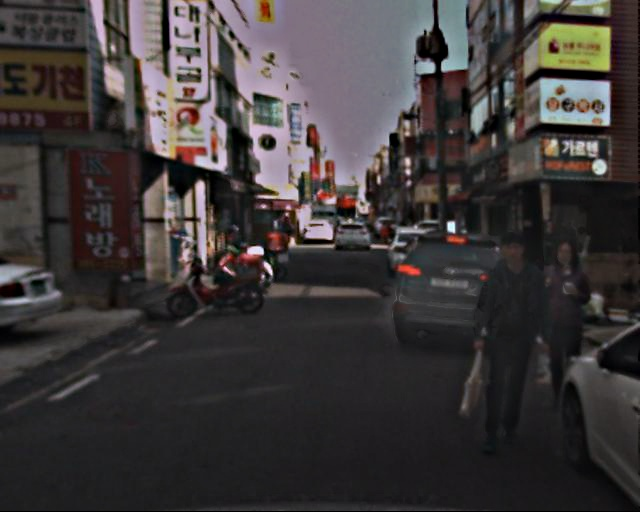person: (461, 232, 551, 452), (526, 242, 600, 408), (279, 216, 295, 255), (379, 223, 394, 243)
